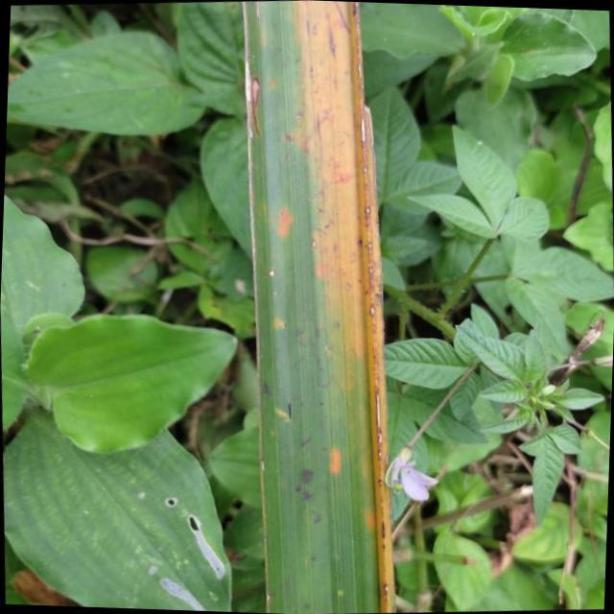Megnesium: (246, 0, 395, 614)
